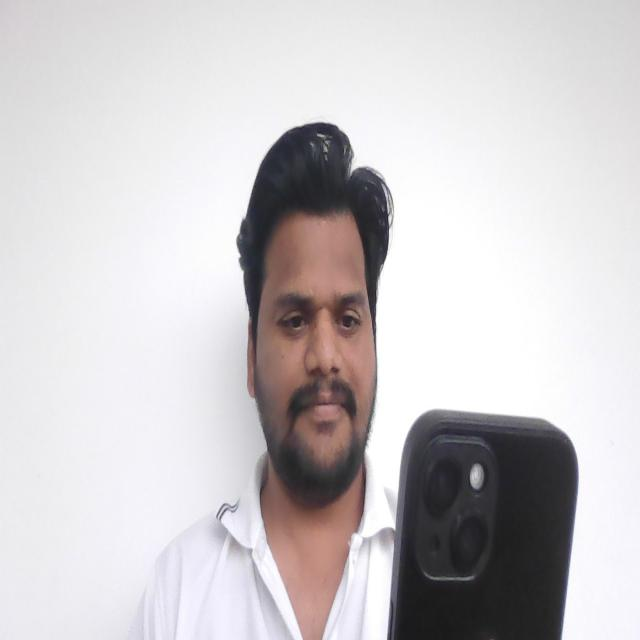phone: (391, 404, 580, 640)
